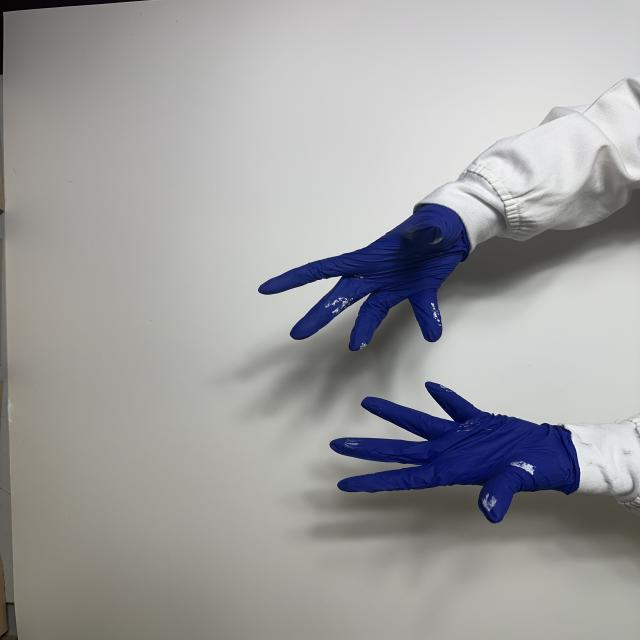glove_on: (330, 382, 582, 522), (258, 204, 470, 350)
